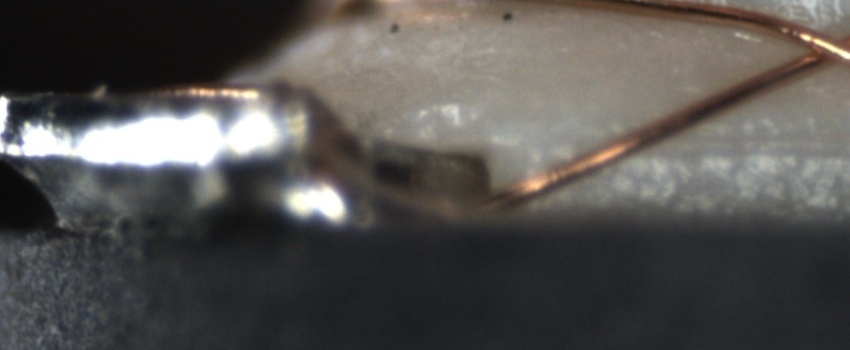CL: (785, 19, 846, 73)
DL: (630, 118, 849, 177)
TE: (131, 71, 303, 99)
